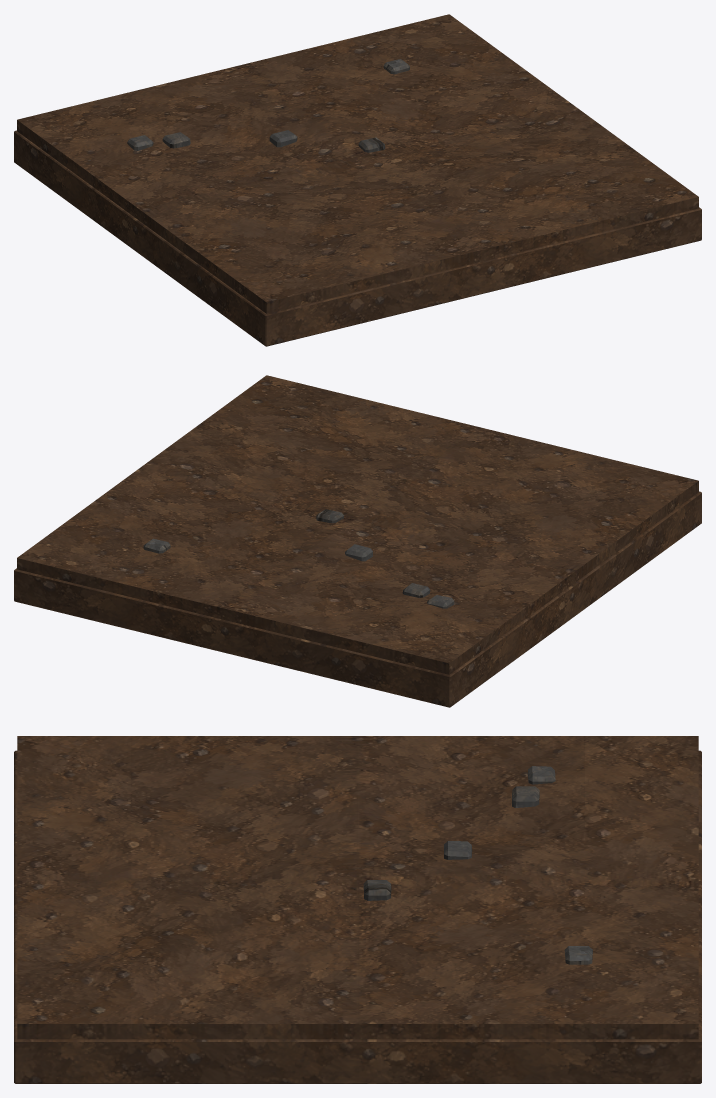
The model's file is floor_dirt_a.glb.
The picture shows the model from 3 angles, top to bottom: view 1: azimuth 30°, elevation 25°; view 2: azimuth 150°, elevation 25°; view 3: azimuth 270°, elevation 25°; orthographic projection. The views are drawn at different scales.
Parts seen in each view (by area): view 1: floor_dirt_a; view 2: floor_dirt_a; view 3: floor_dirt_a.
Boxes of the visible parts, x1,y1,x2,y2 form: floor_dirt_a: [14, 14, 701, 346]; floor_dirt_a: [14, 375, 701, 707]; floor_dirt_a: [14, 736, 701, 1083].
Size of the model in its own units: 1 by 0.1096 by 1.
Materials: 4 (4 with a texture image).
